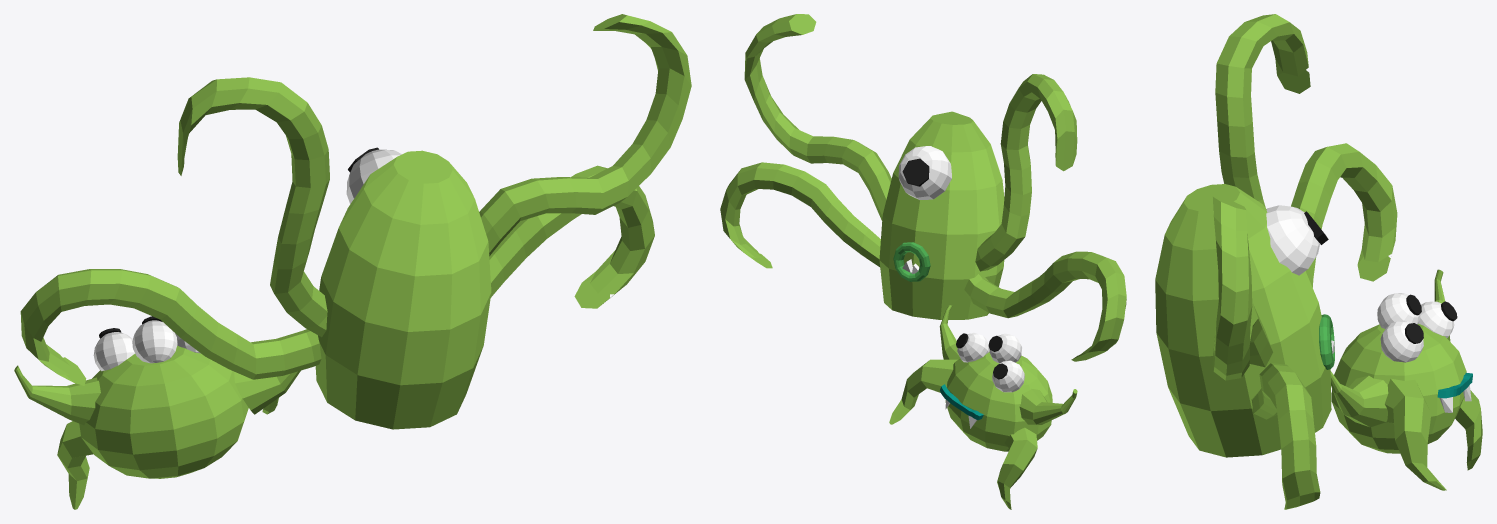
File: animals-sea-monsters-176.glb
The picture shows the model from 3 angles, left to right: view 1: azimuth 30°, elevation 25°; view 2: azimuth 150°, elevation 25°; view 3: azimuth 270°, elevation 25°; orthographic projection. The views are drawn at different scales.
Visible parts, largest first — view 1: group2031792733, group1292895944; view 2: group2031792733, group1292895944; view 3: group2031792733, group1292895944.
Part boxes in pixels (bbox=[...]): group2031792733: bbox=[20, 14, 691, 429]; group1292895944: bbox=[14, 316, 300, 509]; group2031792733: bbox=[720, 14, 1126, 361]; group1292895944: bbox=[889, 305, 1077, 509]; group2031792733: bbox=[1155, 14, 1397, 509]; group1292895944: bbox=[1330, 269, 1482, 490].
Size of the model in its own units: 0.5125 by 0.4111 by 0.2547.
